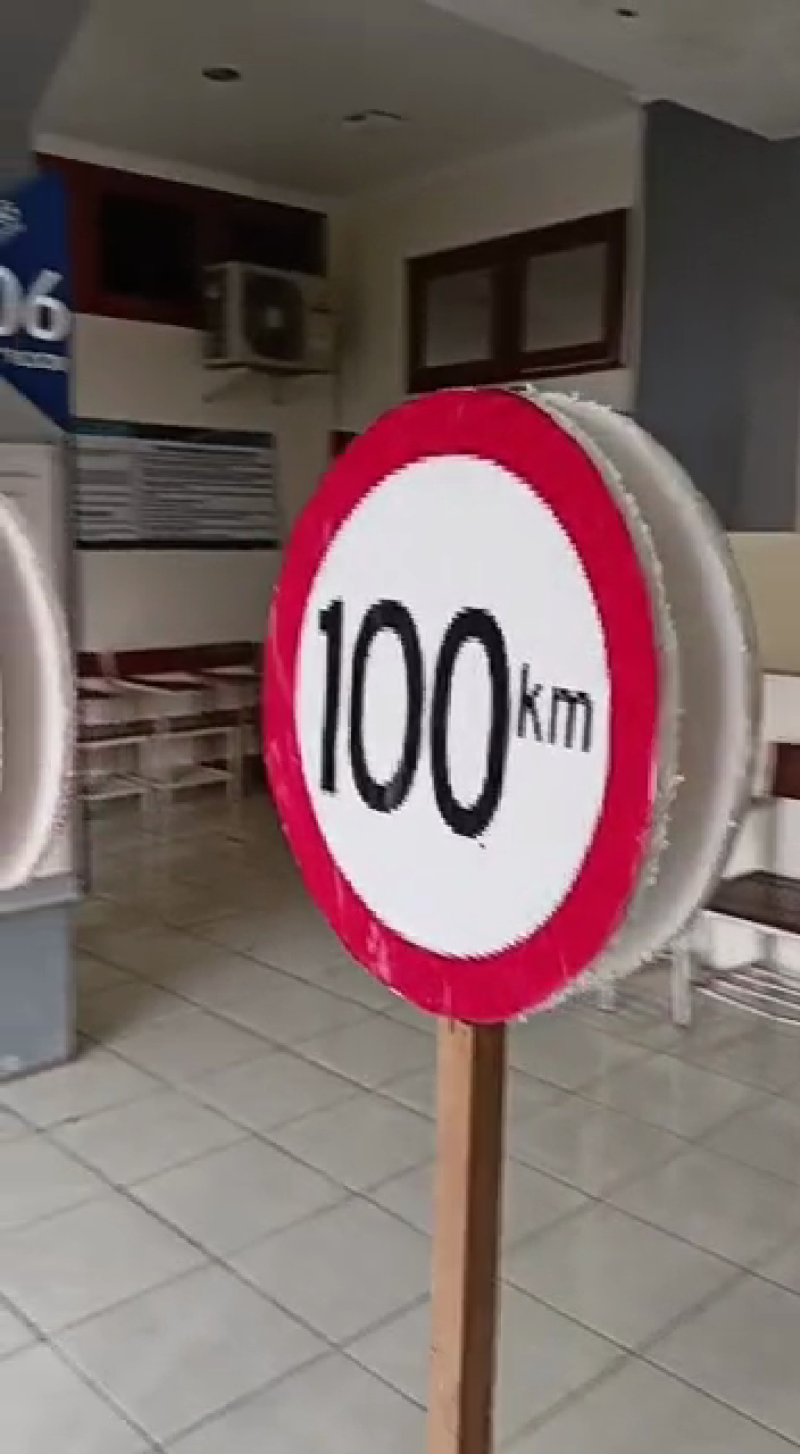batas maksimal 100kmperjam: (252, 376, 682, 1048)
